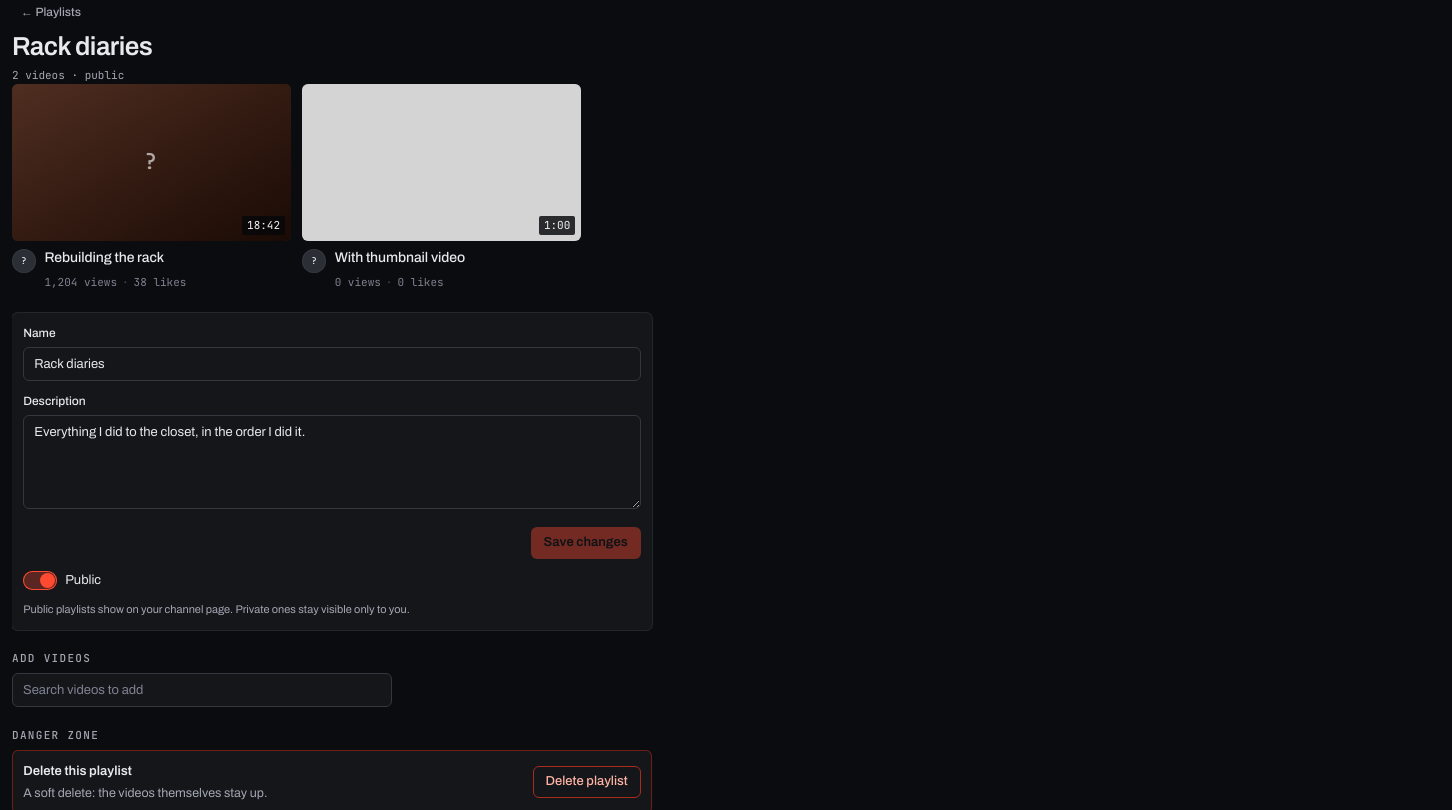
Scenario: PlaylistDetail › renames and redescription through the edit form
expect the heading "Rack diaries" is shown: met, box [12,32,152,62]
Step 1. Replace the text in the field labelled "Name" with "Rack diaries II" → (332, 364), box [23,347,641,381]
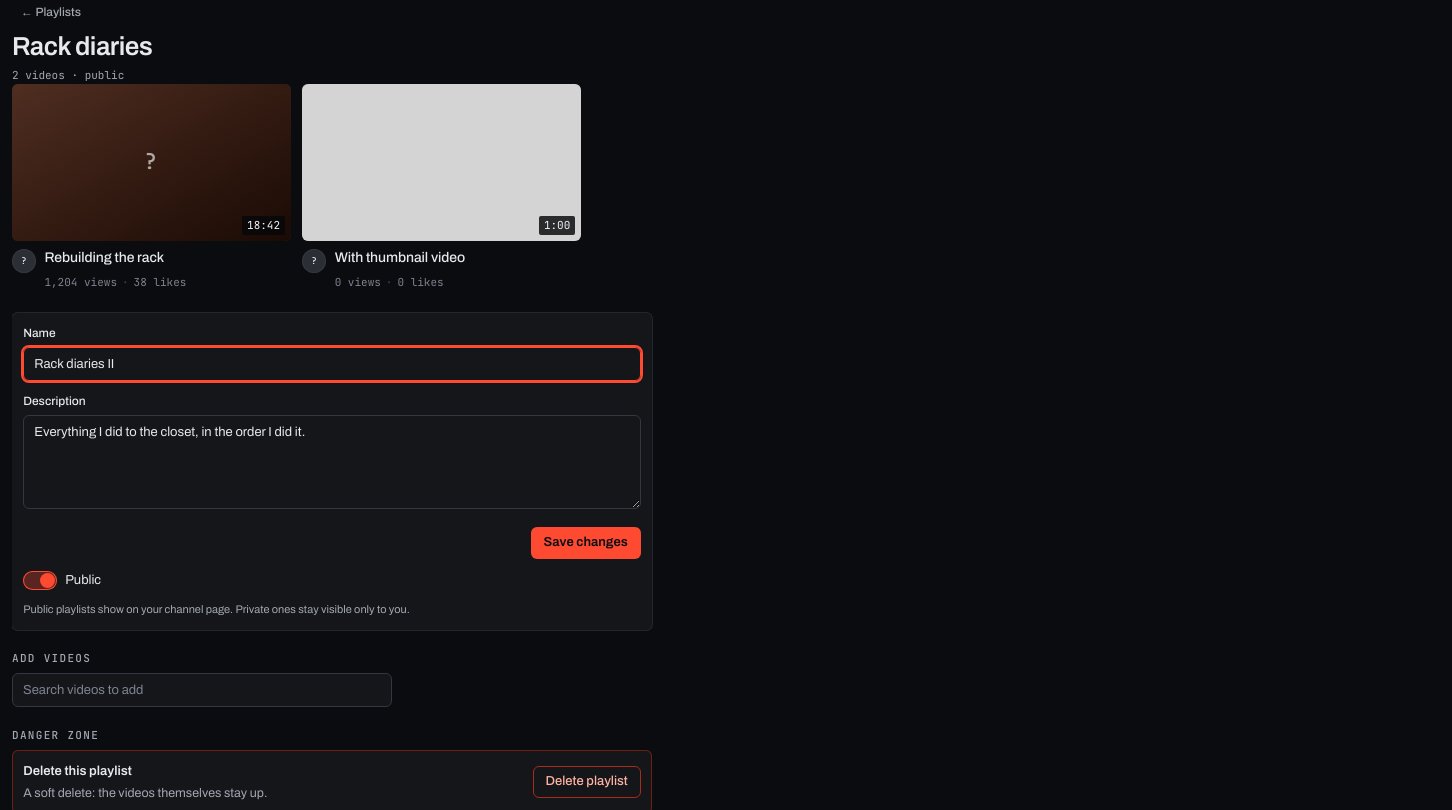
Step 2. Replace the text in the text box labelled "Description" with "The rack, revisited in order" → (332, 462), box [23,415,641,509]
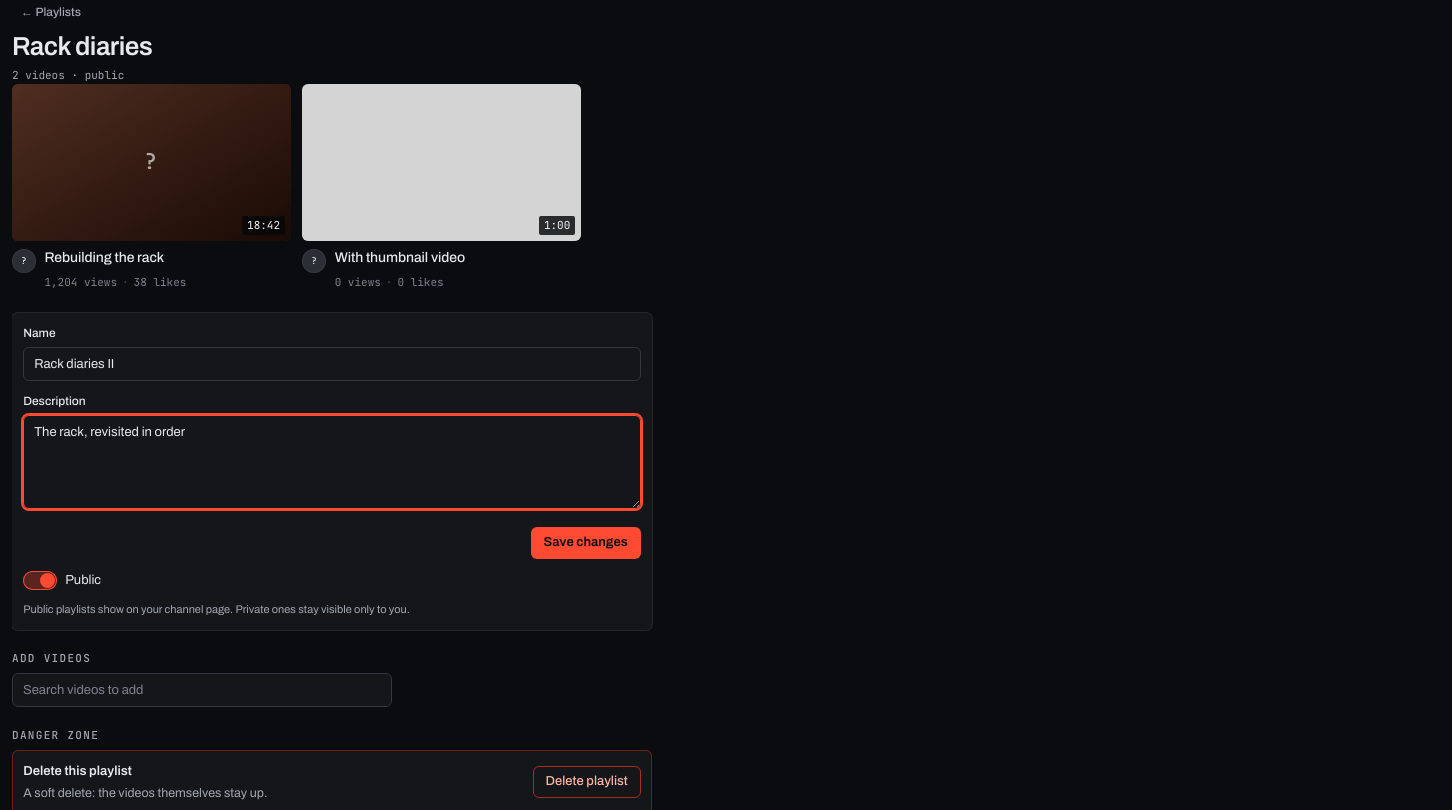
Step 3. Click the button "Save changes" → (586, 543), box [531,527,641,559]
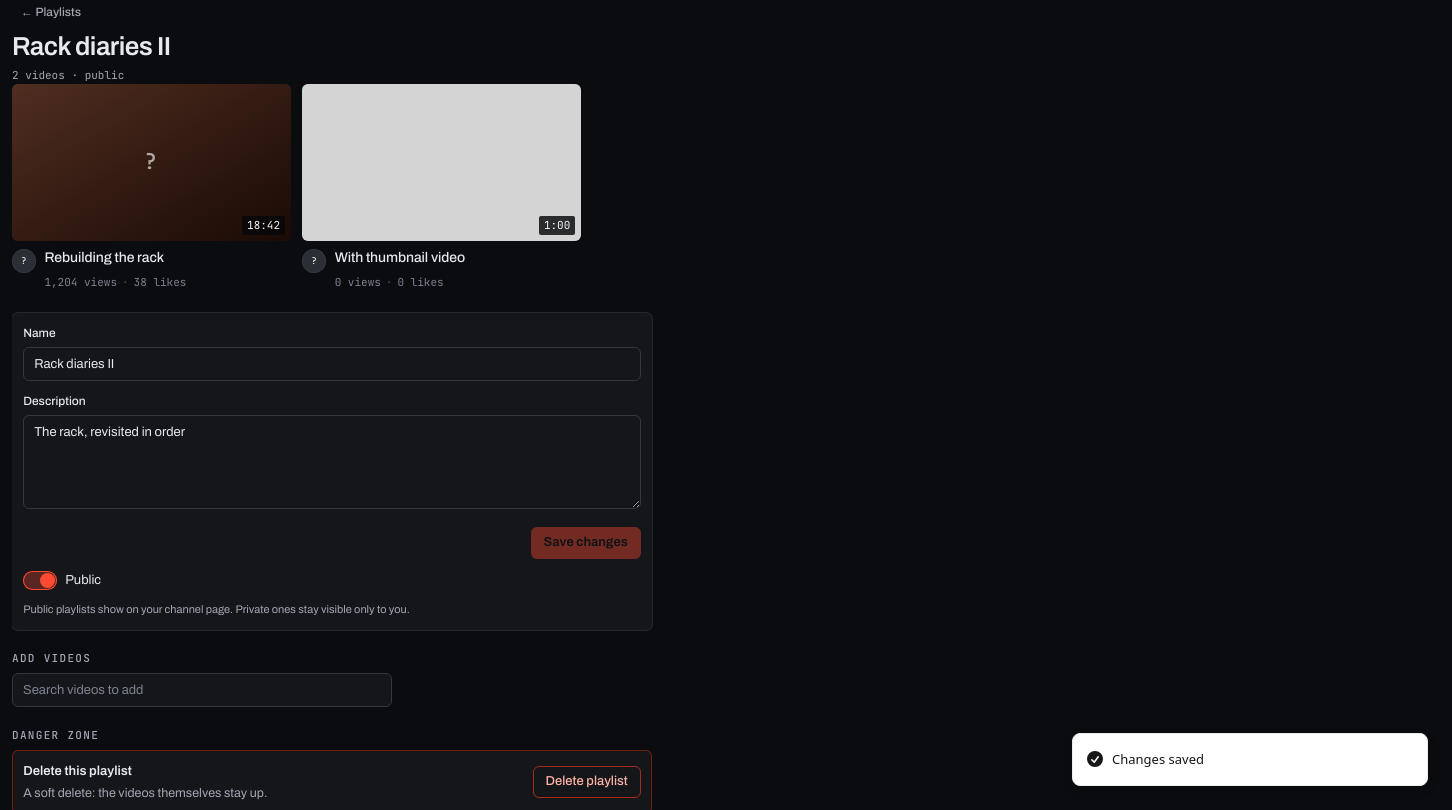
expect the heading "Rack diaries II" is shown: met, box [12,32,171,62]
